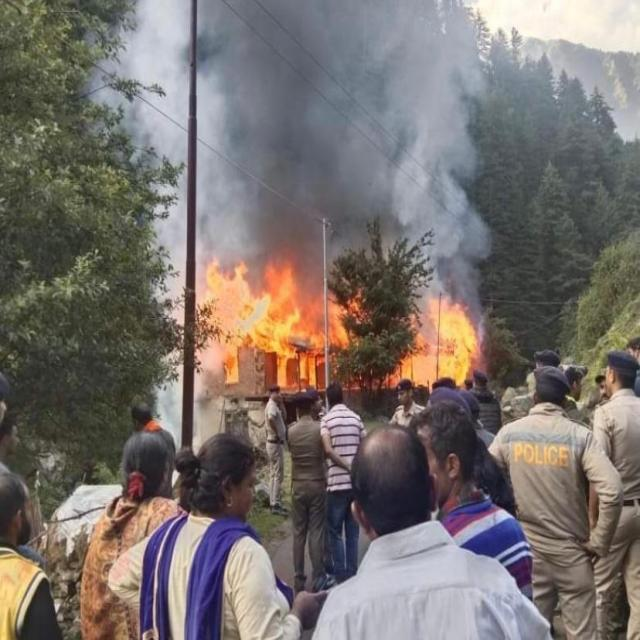fire: (212, 262, 341, 387), (429, 301, 474, 386)
smoke: (207, 7, 460, 241)
